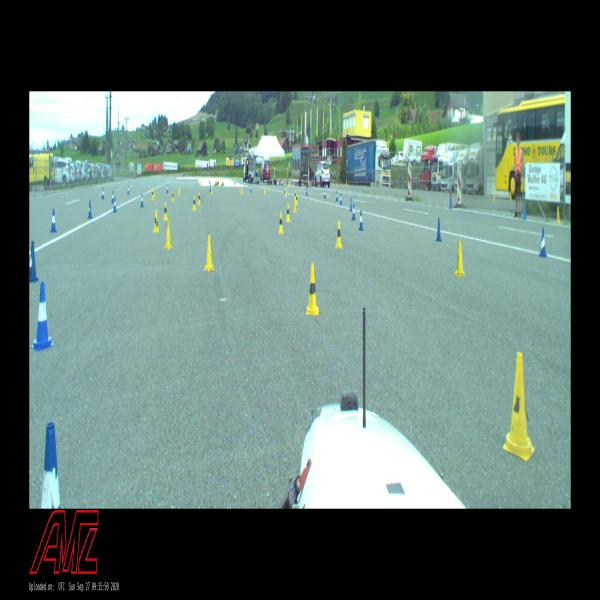blue_cone: (42, 422, 61, 509), (32, 282, 54, 351), (30, 242, 38, 281), (539, 228, 547, 257), (50, 209, 57, 232), (436, 217, 442, 241), (358, 211, 364, 231), (88, 200, 93, 219), (113, 197, 117, 212), (349, 198, 353, 211), (352, 204, 355, 220), (141, 193, 144, 207), (111, 190, 114, 203), (127, 184, 130, 195), (166, 184, 169, 193), (340, 193, 342, 205), (102, 188, 104, 199), (336, 191, 338, 201), (324, 189, 326, 198), (306, 187, 308, 196), (250, 184, 251, 192)
yellow_cone: (503, 351, 534, 460), (306, 263, 319, 315), (454, 240, 466, 277), (204, 235, 215, 270), (164, 220, 173, 248), (335, 222, 342, 248), (153, 210, 160, 233), (278, 212, 284, 234), (163, 202, 168, 220), (286, 203, 290, 222), (192, 195, 196, 211), (293, 199, 297, 213), (198, 192, 201, 205), (296, 193, 298, 205), (172, 190, 174, 201), (152, 189, 154, 200), (294, 190, 296, 200), (285, 188, 287, 197), (492, 192, 494, 201), (264, 187, 266, 195), (154, 187, 155, 197), (179, 186, 180, 195), (241, 186, 242, 194)
